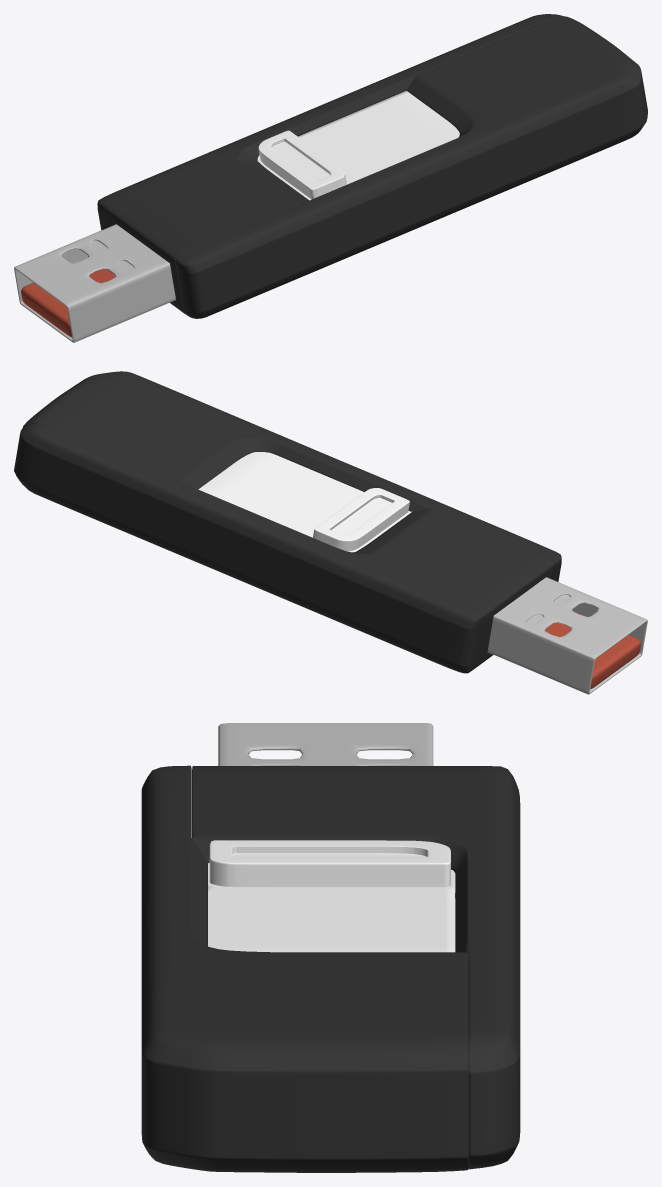
Rendered from Flash_Drive.fbx.
3 views of the same model, one above another, from view 1: azimuth 30°, elevation 25°; view 2: azimuth 150°, elevation 25°; view 3: azimuth 270°, elevation 25° (orthographic). The views are drawn at different scales.
Parts seen in each view (by area): view 1: BackShell1, FrontShell1, Trigger1, Head1, Teeth1; view 2: FrontShell1, BackShell1, Trigger1, Head1, Teeth1; view 3: BackShell1, FrontShell1, Trigger1, Head1.
Part boxes in pixels (<box>): BackShell1: <box>175,16,647,318</box>; FrontShell1: <box>97,14,561,313</box>; Trigger1: <box>257,90,459,200</box>; Head1: <box>14,224,175,342</box>; Teeth1: <box>21,269,114,337</box>; FrontShell1: <box>14,423,554,673</box>; BackShell1: <box>23,371,561,581</box>; Trigger1: <box>198,452,412,552</box>; Head1: <box>487,577,647,694</box>; Teeth1: <box>545,612,640,688</box>; BackShell1: <box>141,765,468,1172</box>; FrontShell1: <box>192,766,520,1169</box>; Trigger1: <box>208,840,455,952</box>; Head1: <box>218,723,433,765</box>.
Size of the model in its own units: 15.41 by 3.78 by 4.41.
